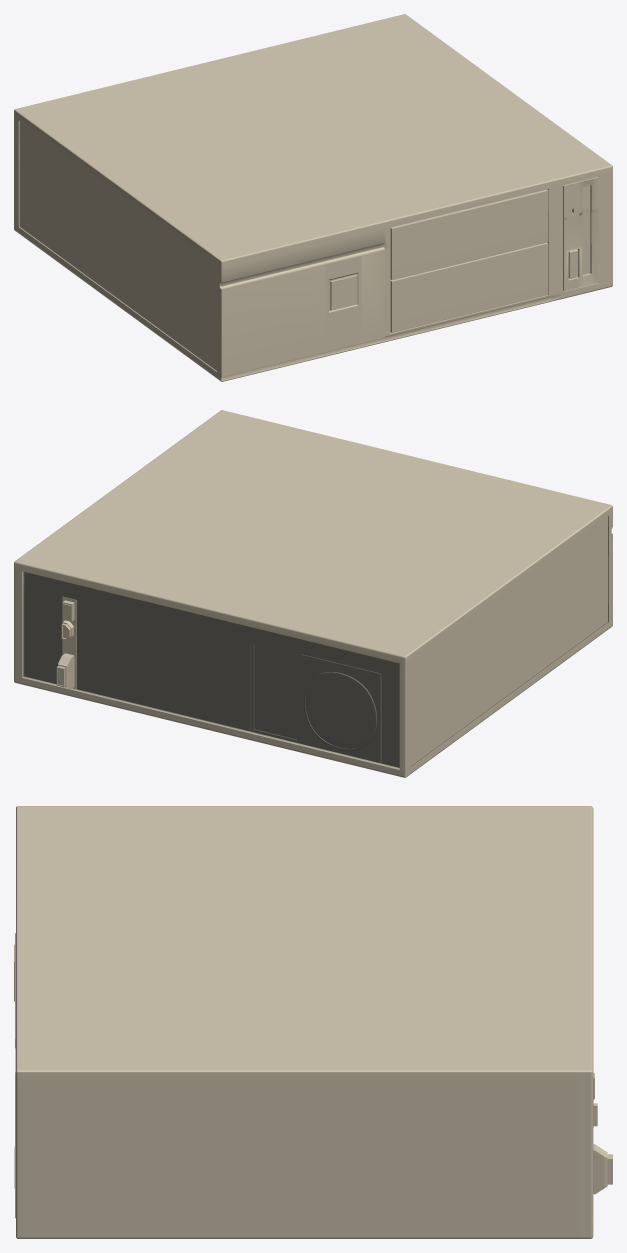
Rendered from computer_terminal.fbx.
3 renders of one model, top to bottom at view 1: azimuth 30°, elevation 25°; view 2: azimuth 150°, elevation 25°; view 3: azimuth 270°, elevation 25°, orthographic. The views are drawn at different scales.
Parts seen in each view (by area): view 1: pCube231; view 2: pCube231; view 3: pCube231.
Boxes of the visible parts, box(x1,y1,x2,y2) form: pCube231: box(14, 14, 612, 381); pCube231: box(14, 410, 612, 777); pCube231: box(14, 806, 612, 1238).
Size of the model in its own units: 10.03 by 2.97 by 9.55.
